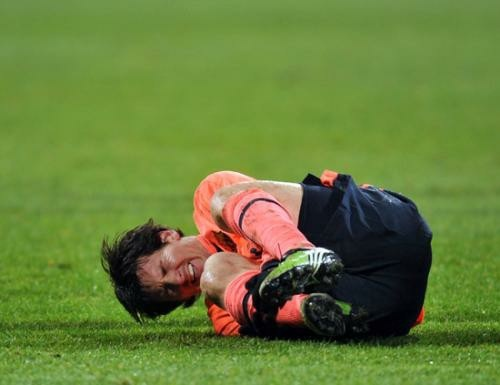falling: (106, 156, 439, 344)
